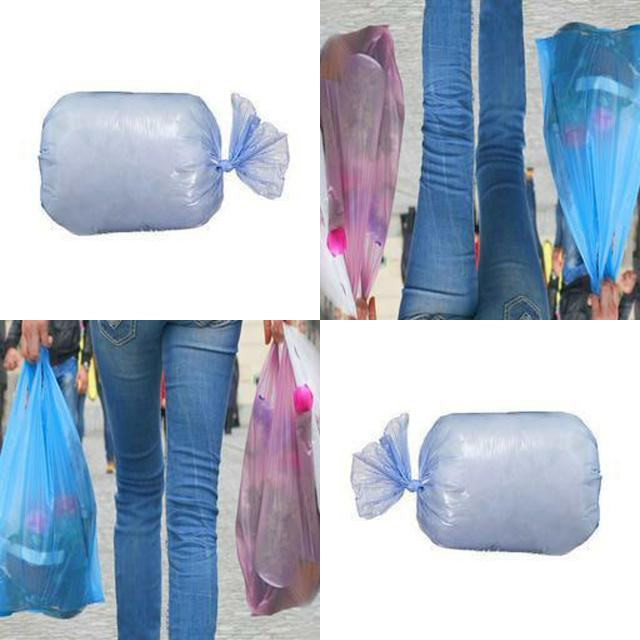Single-layer Plastic: (39, 91, 289, 235), (351, 411, 601, 555), (536, 22, 640, 293), (0, 349, 104, 618), (321, 25, 404, 304), (236, 340, 319, 615)
